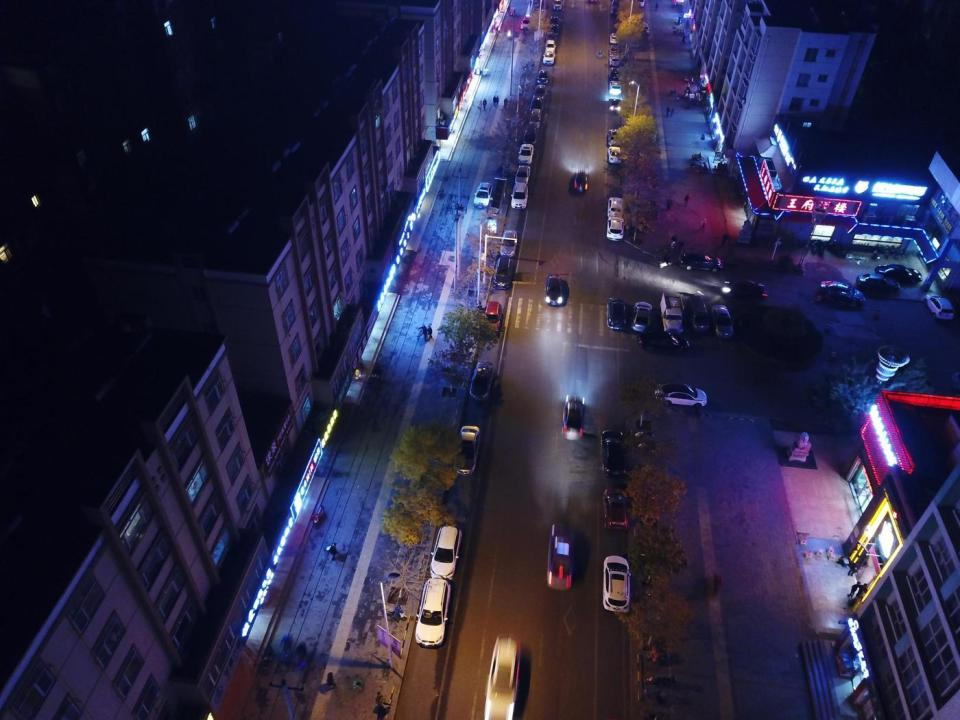bus: (688, 295, 708, 334)
car: (482, 637, 519, 720), (414, 578, 450, 648), (546, 520, 573, 588), (431, 525, 462, 579), (602, 555, 630, 610), (654, 383, 707, 408), (817, 281, 866, 307), (602, 430, 627, 477), (455, 426, 479, 474), (640, 330, 688, 352), (604, 488, 628, 532), (468, 360, 494, 400), (563, 395, 585, 441), (720, 280, 768, 301), (874, 264, 922, 284), (677, 252, 723, 272), (856, 274, 900, 294), (710, 304, 734, 339), (924, 293, 954, 321), (481, 301, 502, 336), (606, 296, 626, 331), (493, 258, 513, 289), (632, 302, 652, 331), (544, 276, 563, 305), (472, 182, 491, 207), (510, 182, 528, 208), (500, 229, 517, 256), (607, 217, 624, 239), (574, 169, 590, 192), (608, 197, 625, 218), (518, 144, 534, 166), (514, 165, 530, 183), (523, 124, 537, 143), (608, 146, 622, 163), (608, 130, 622, 146), (529, 108, 541, 126), (534, 85, 546, 102), (537, 70, 548, 86), (530, 97, 542, 111), (542, 52, 554, 66), (609, 81, 621, 95), (520, 16, 531, 30), (609, 97, 620, 111), (530, 0, 545, 10), (545, 40, 556, 53), (609, 67, 620, 80), (609, 54, 619, 68), (609, 33, 620, 44), (548, 25, 558, 36), (640, 23, 650, 34), (553, 0, 563, 10), (550, 16, 559, 27), (546, 33, 555, 44), (610, 45, 618, 55), (635, 0, 645, 7), (612, 0, 621, 7), (612, 8, 620, 15), (587, 0, 596, 3)
truck: (660, 291, 683, 334), (510, 7, 514, 14)
